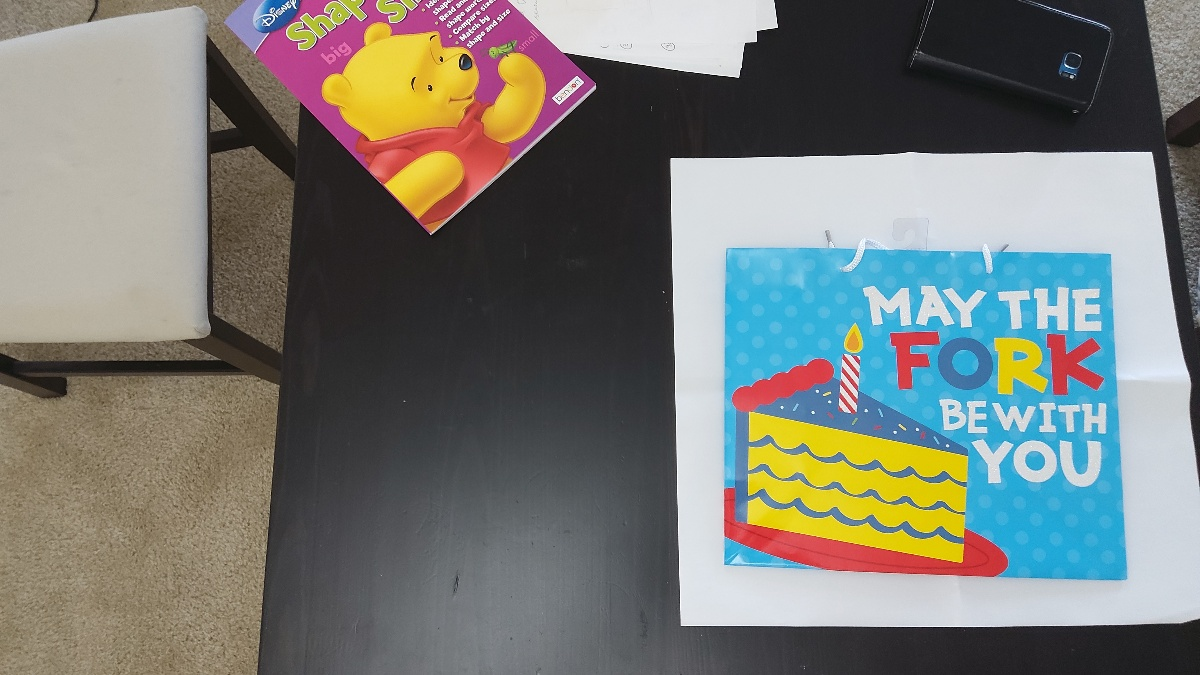paper_bag: (728, 244, 1126, 577)
